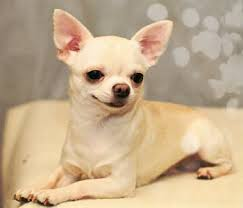chihuahua: (14, 5, 234, 197)
